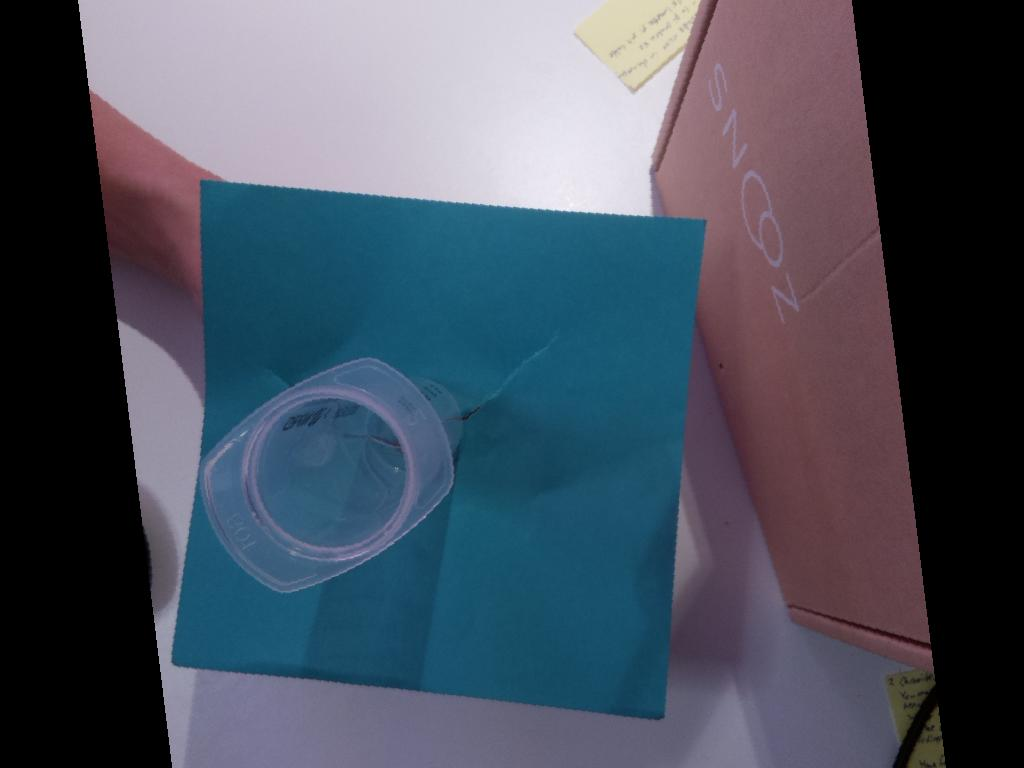clean: (196, 356, 457, 592)
